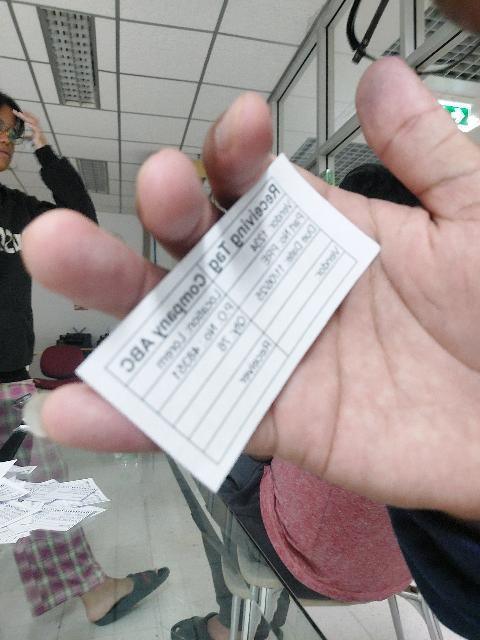PO no: (141, 295, 242, 415)
part no: (225, 207, 310, 308)
qty: (157, 308, 253, 427)
tags: (72, 157, 381, 496)
